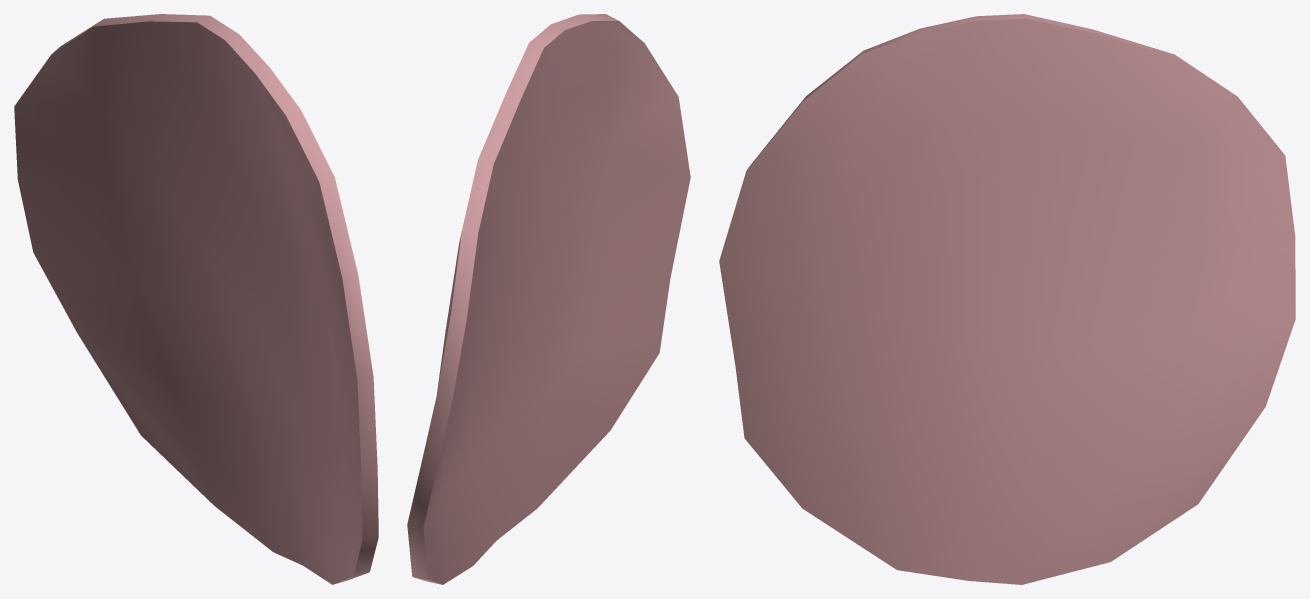
3 views of the same model, side by side, from view 1: azimuth 30°, elevation 25°; view 2: azimuth 150°, elevation 25°; view 3: azimuth 270°, elevation 25° (orthographic). The views are drawn at different scales.
Parts seen in each view (by area): view 1: ZA_3047b99435515787; view 2: ZA_3047b99435515787; view 3: ZA_3047b99435515787.
Part boxes in pixels (x1,y1,x2,y2): ZA_3047b99435515787: (14, 14, 378, 584); ZA_3047b99435515787: (407, 14, 690, 584); ZA_3047b99435515787: (719, 14, 1295, 584).
Size of the model in its own units: 0.0297 by 0.1083 by 0.1062.
